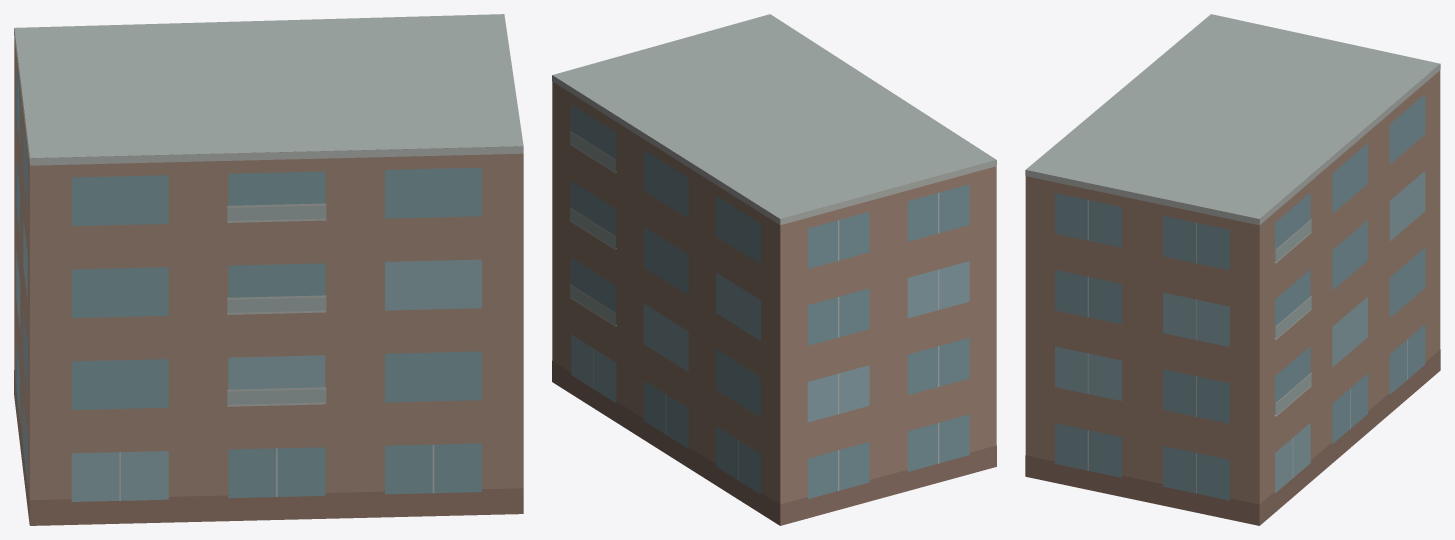
Rendered from survey-upis-32852761.glb.
The picture shows the model from 3 angles, left to right: view 1: azimuth 30°, elevation 25°; view 2: azimuth 150°, elevation 25°; view 3: azimuth 270°, elevation 25°; orthographic projection. The views are drawn at different scales.
Visible parts, largest first — view 1: survey-upis-32852761.tmp; view 2: survey-upis-32852761.tmp; view 3: survey-upis-32852761.tmp.
Boxes of the visible parts, bbox=[...] form: survey-upis-32852761.tmp: bbox=[14, 14, 523, 525]; survey-upis-32852761.tmp: bbox=[552, 14, 996, 525]; survey-upis-32852761.tmp: bbox=[1025, 14, 1440, 525].
Bounding box in the file's own units: 17.06 × 11.9 × 14.6.
